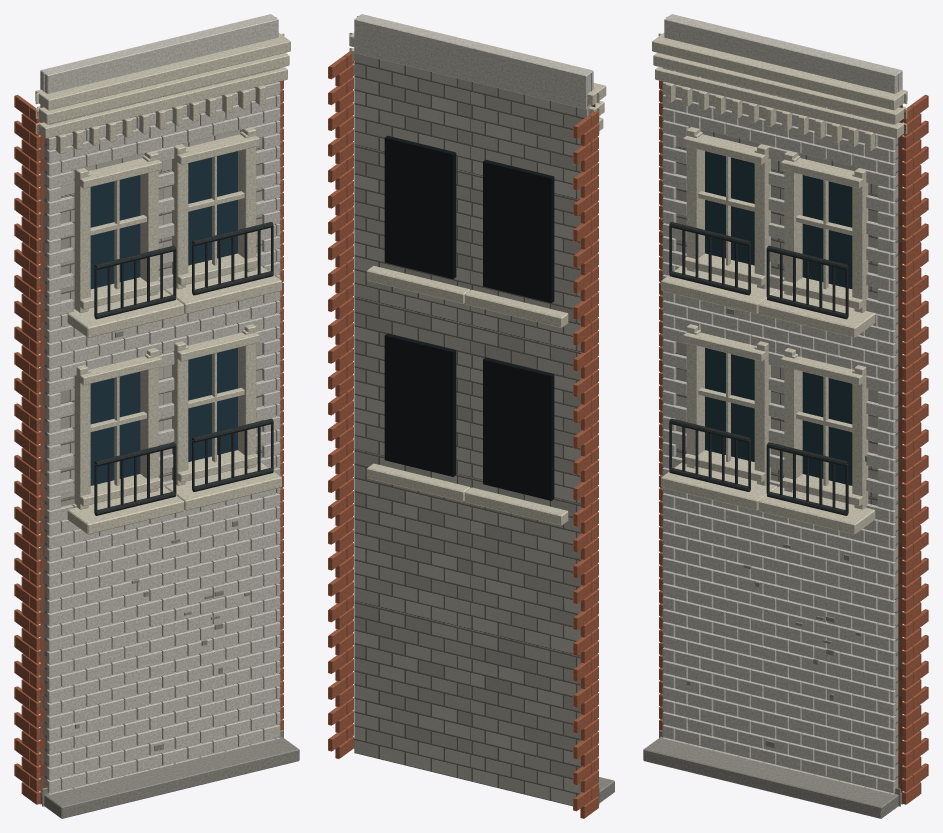
The model's file is RUNDWN16_lod0.glb.
3 views of the same model, side by side, from view 1: azimuth 30°, elevation 25°; view 2: azimuth 150°, elevation 25°; view 3: azimuth 330°, elevation 25° (orthographic).
Visible parts, largest first — view 1: RUNDWN16_FRONT_LOD0; view 2: RUNDWN16_FRONT_LOD0; view 3: RUNDWN16_FRONT_LOD0.
Part boxes in pixels (box(x1,y1,x2,y2)): RUNDWN16_FRONT_LOD0: box(14, 14, 299, 818); RUNDWN16_FRONT_LOD0: box(328, 14, 614, 818); RUNDWN16_FRONT_LOD0: box(643, 14, 928, 818).
Size of the model in its own units: 3.44 by 9.66 by 1.13.
14 materials, 12 textured.
